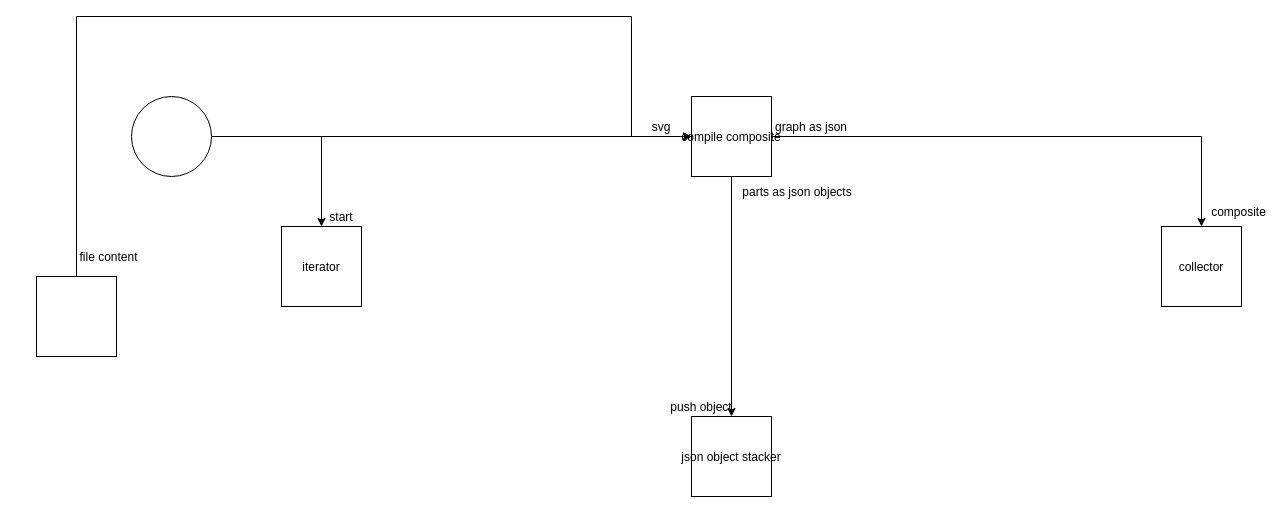
The diagram is 1288 pixels wide and 513 high, and some of its shapes have lost their labels. The centre of each missing label's shape, as x and y in pixels:
get file content in repo: (76,316)
top-level svg: (171,136)
